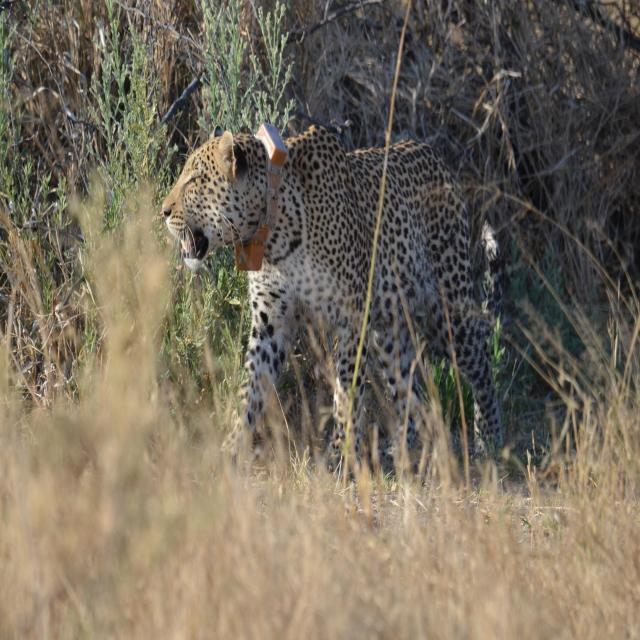Leopard: (190, 115, 512, 485)
